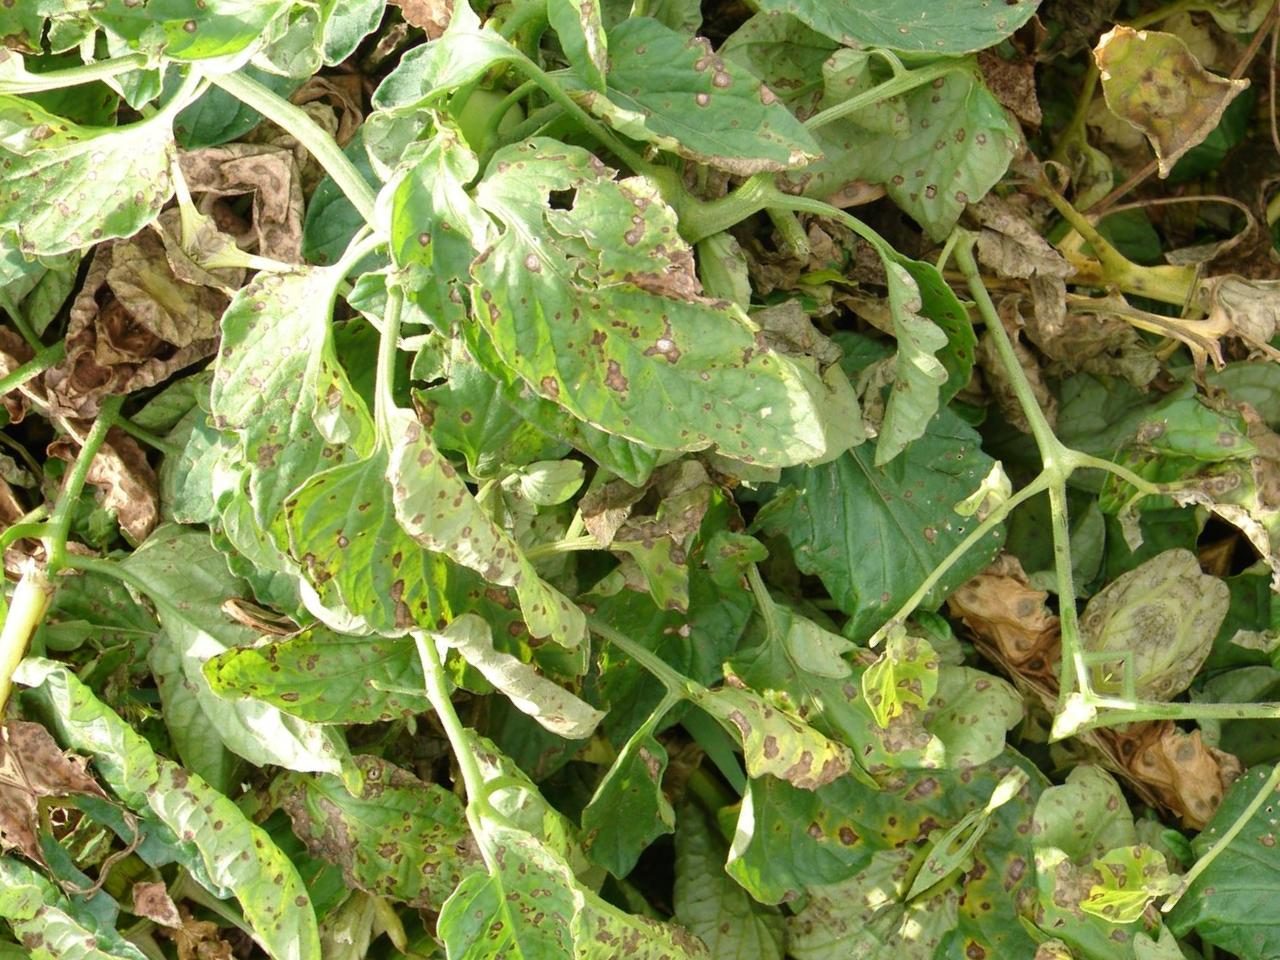Tomato Septoria leaf spot: (389, 77, 901, 574), (80, 217, 496, 633), (254, 378, 633, 748), (191, 529, 497, 832), (628, 662, 925, 955), (538, 0, 863, 266), (359, 800, 710, 960)
